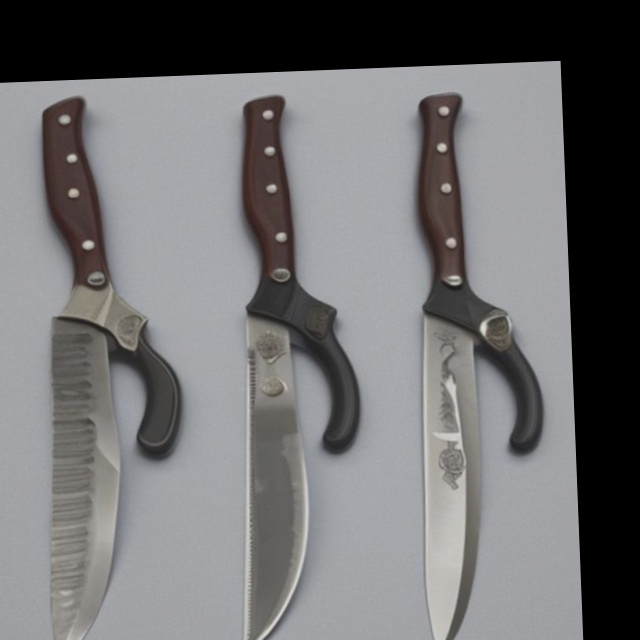Sharp-Object: (25, 88, 196, 640), (218, 86, 374, 640), (400, 84, 555, 640)
